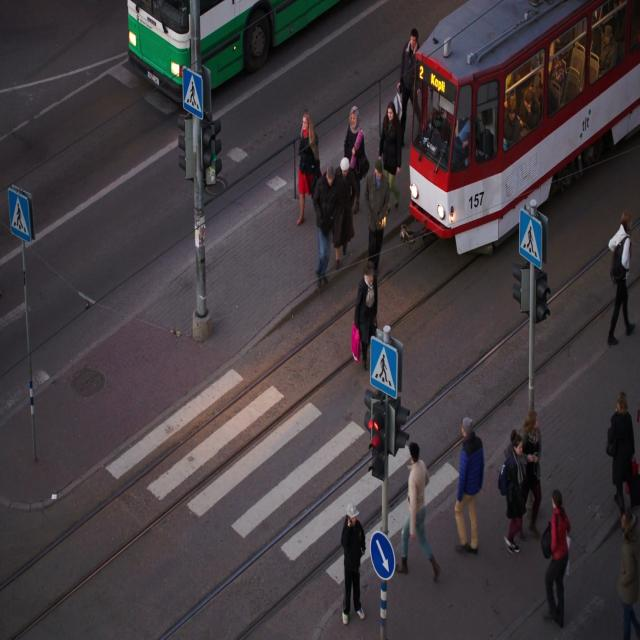pedestrian: (352, 159, 391, 367), (400, 443, 439, 580), (456, 418, 484, 552)
